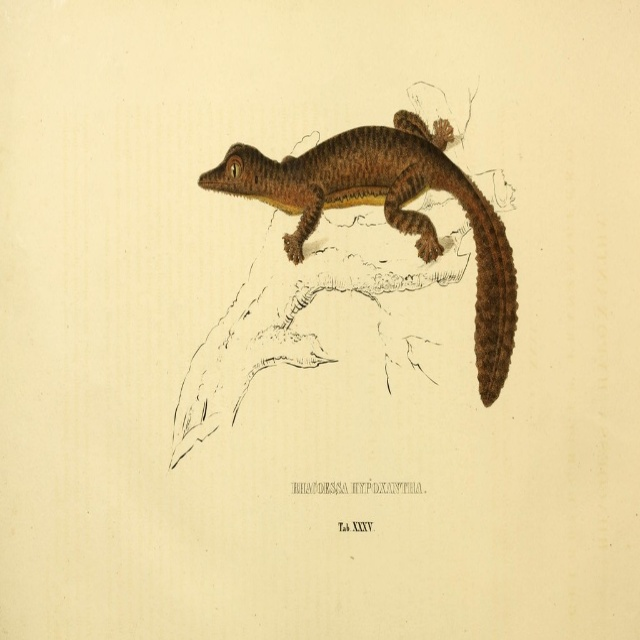Lizard: (200, 111, 532, 417)
